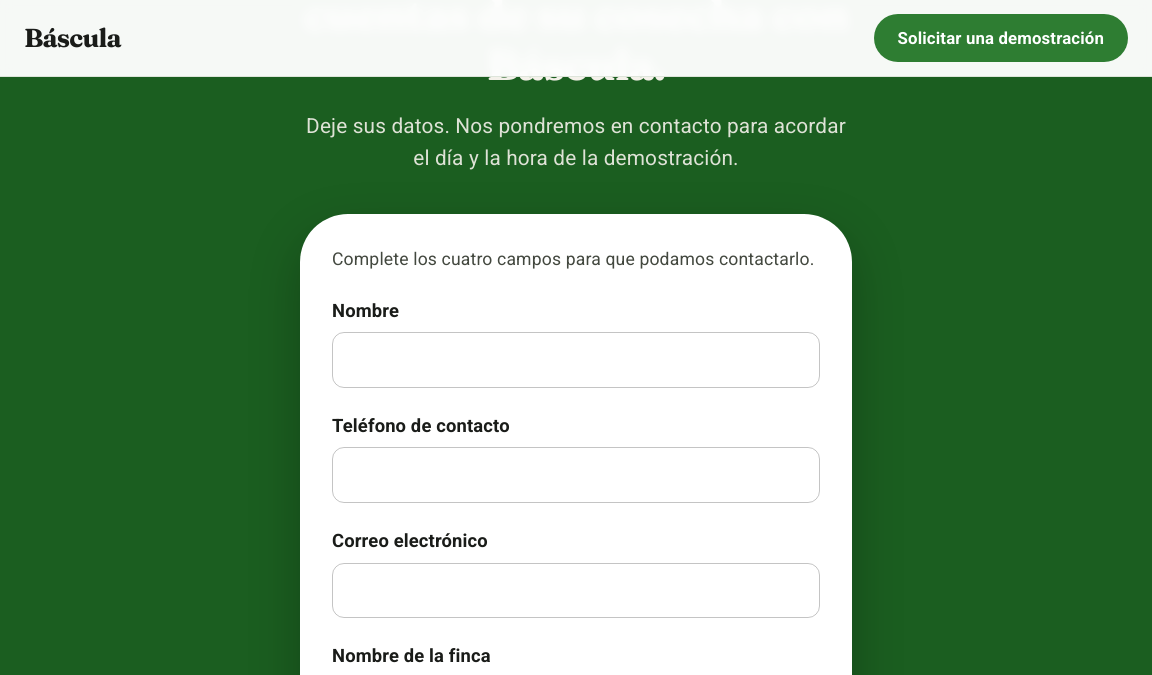
Test: LandingPage — screenshot and form › does not claim success when the form service answers with an error
This screenshot has width=1152, height=675.
(page scrolled)
In the field labelled "Nombre": [576, 360] box [332,332,820,388], type "Ana Rodríguez"
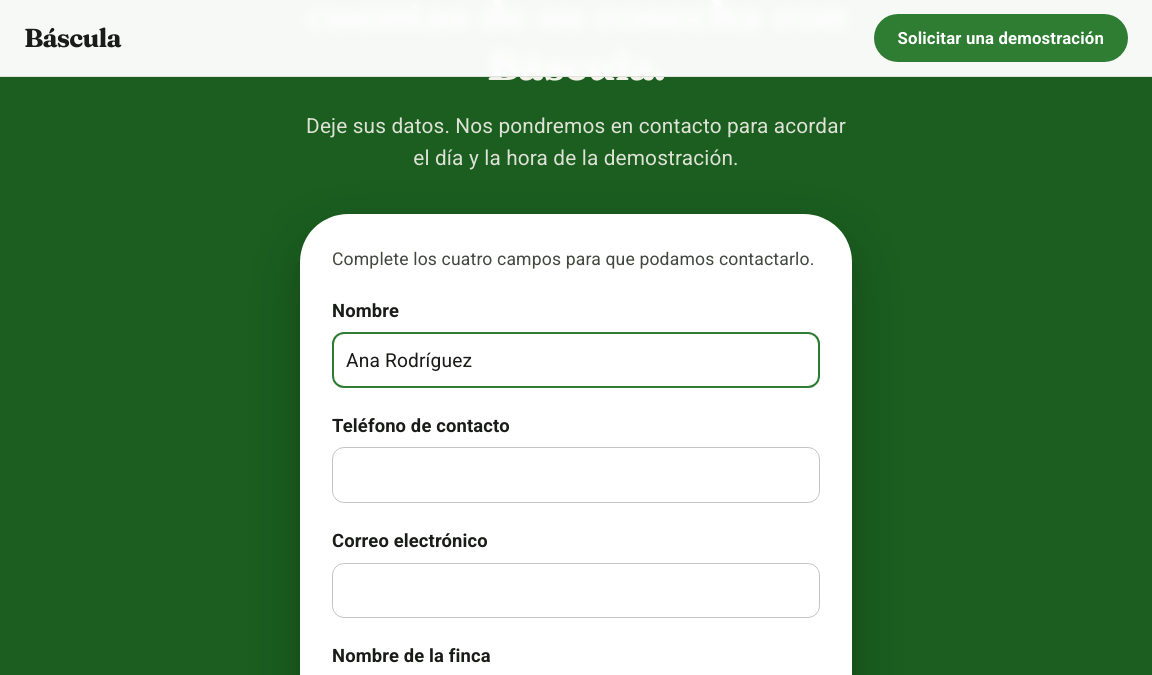
In the field labelled "Teléfono de contacto": [576, 475] box [332,447,820,503], type "310 482 7391"
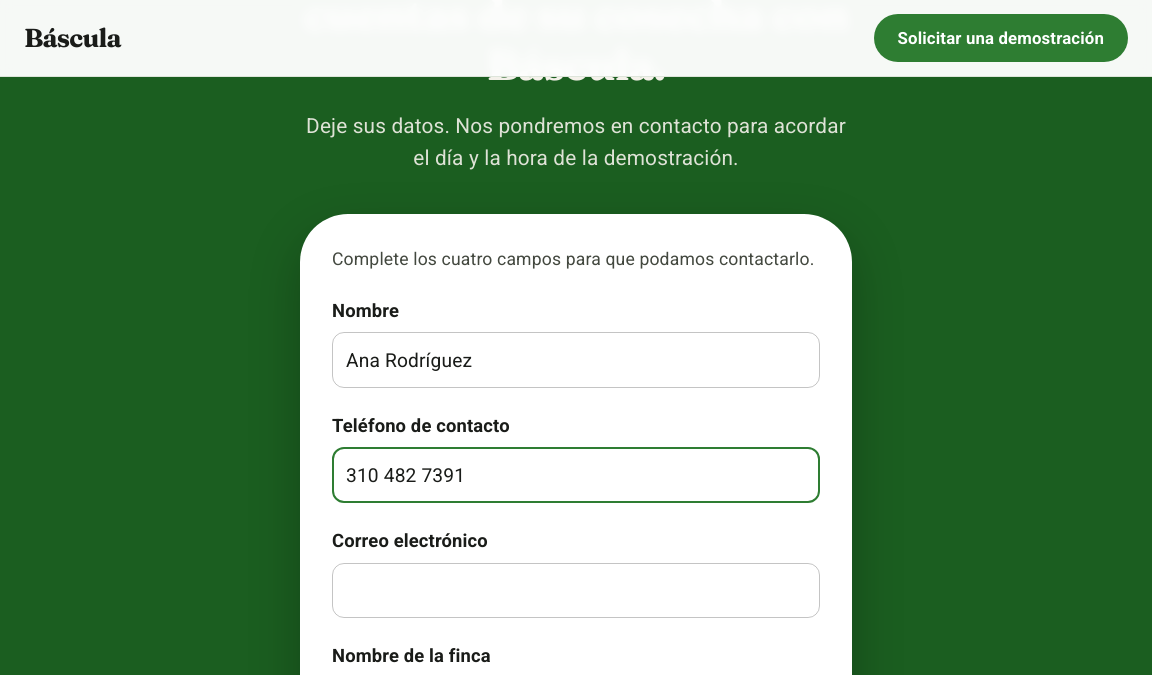
In the field labelled "Correo electrónico": [576, 590] box [332,563,820,618], type "ana@correo.com"
(page scrolled)
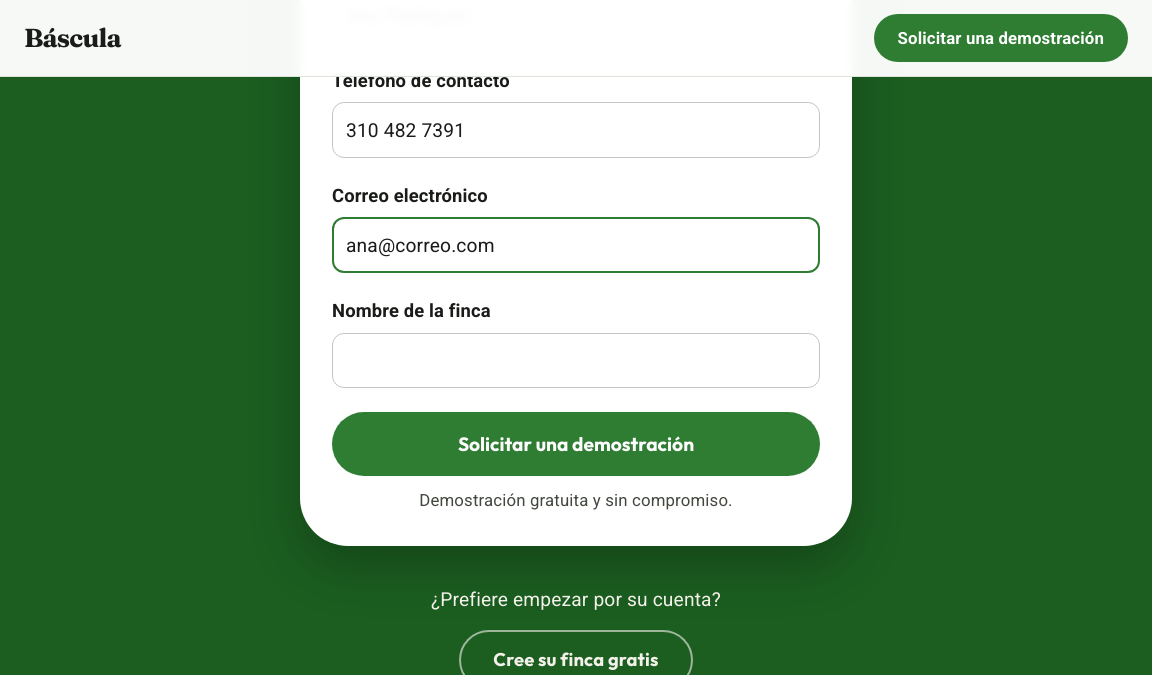
In the field labelled "Nombre de la finca": [576, 361] box [332,333,820,388], type "La Esperanza"
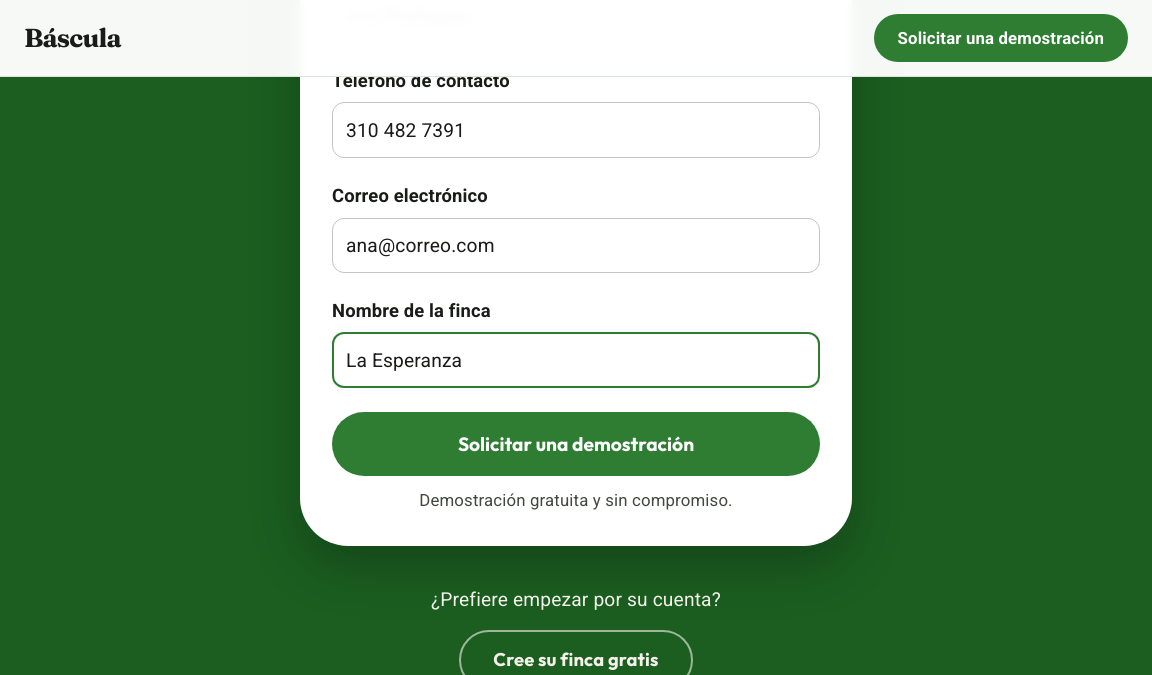
Click the button "Solicitar una demostración": [576, 444] box [332,412,820,476]
(page scrolled)
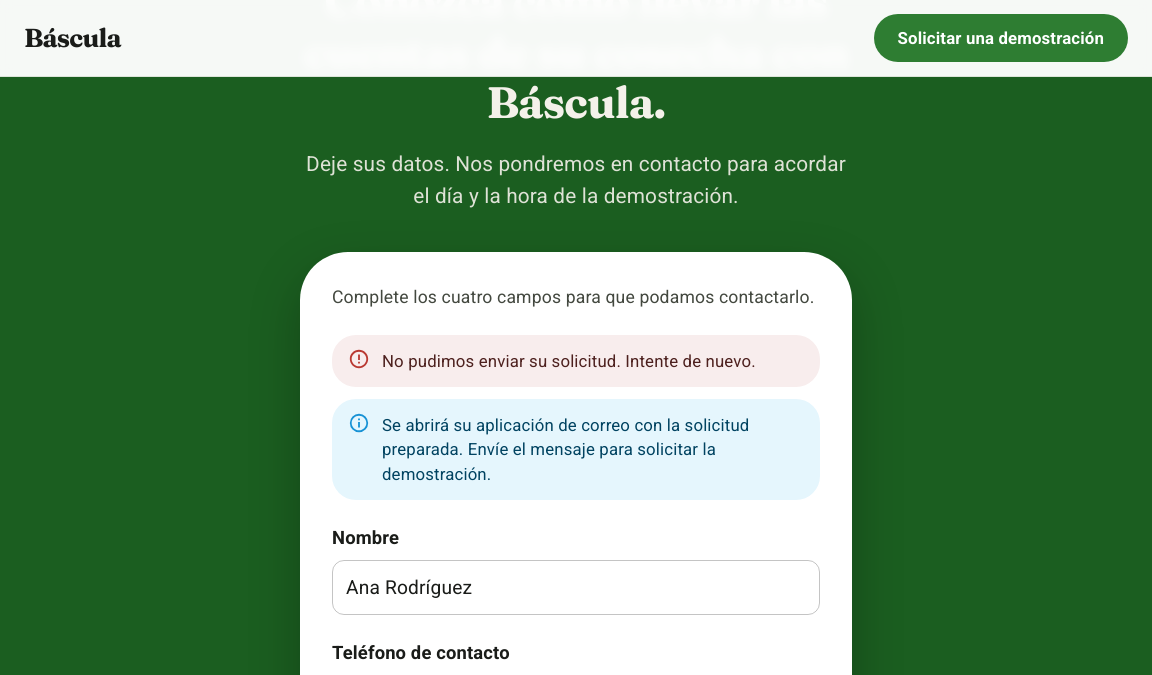
Check: the text "No pudimos enviar su solicitud. Intente de nuevo." is shown, box [382,351,756,371]
